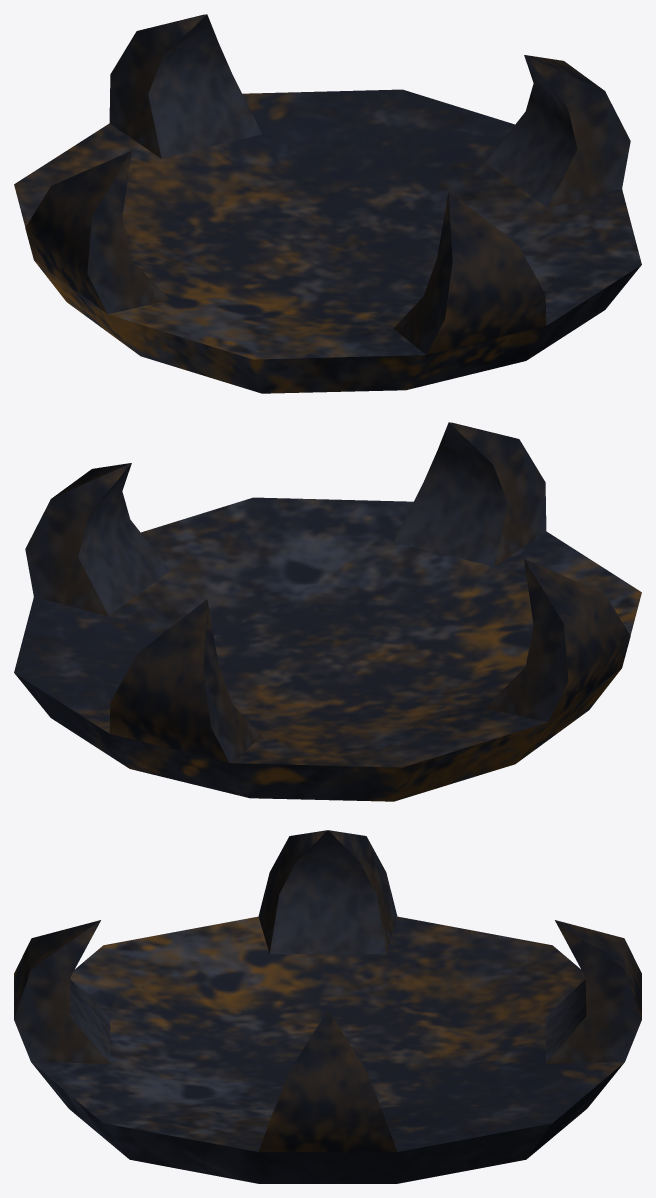
The model's file is Candle_Holder.fbx.
3 renders of one model, top to bottom at view 1: azimuth 30°, elevation 25°; view 2: azimuth 150°, elevation 25°; view 3: azimuth 270°, elevation 25°, orthographic. The views are drawn at different scales.
Visible parts, largest first — view 1: Candle_Holder; view 2: Candle_Holder; view 3: Candle_Holder.
Part boxes in pixels (x1,y1,x2,y2): Candle_Holder: [14, 14, 641, 393]; Candle_Holder: [14, 422, 641, 801]; Candle_Holder: [14, 830, 641, 1183].
Bounding box in the file's own units: 18.1 × 5.47 × 19.31.
